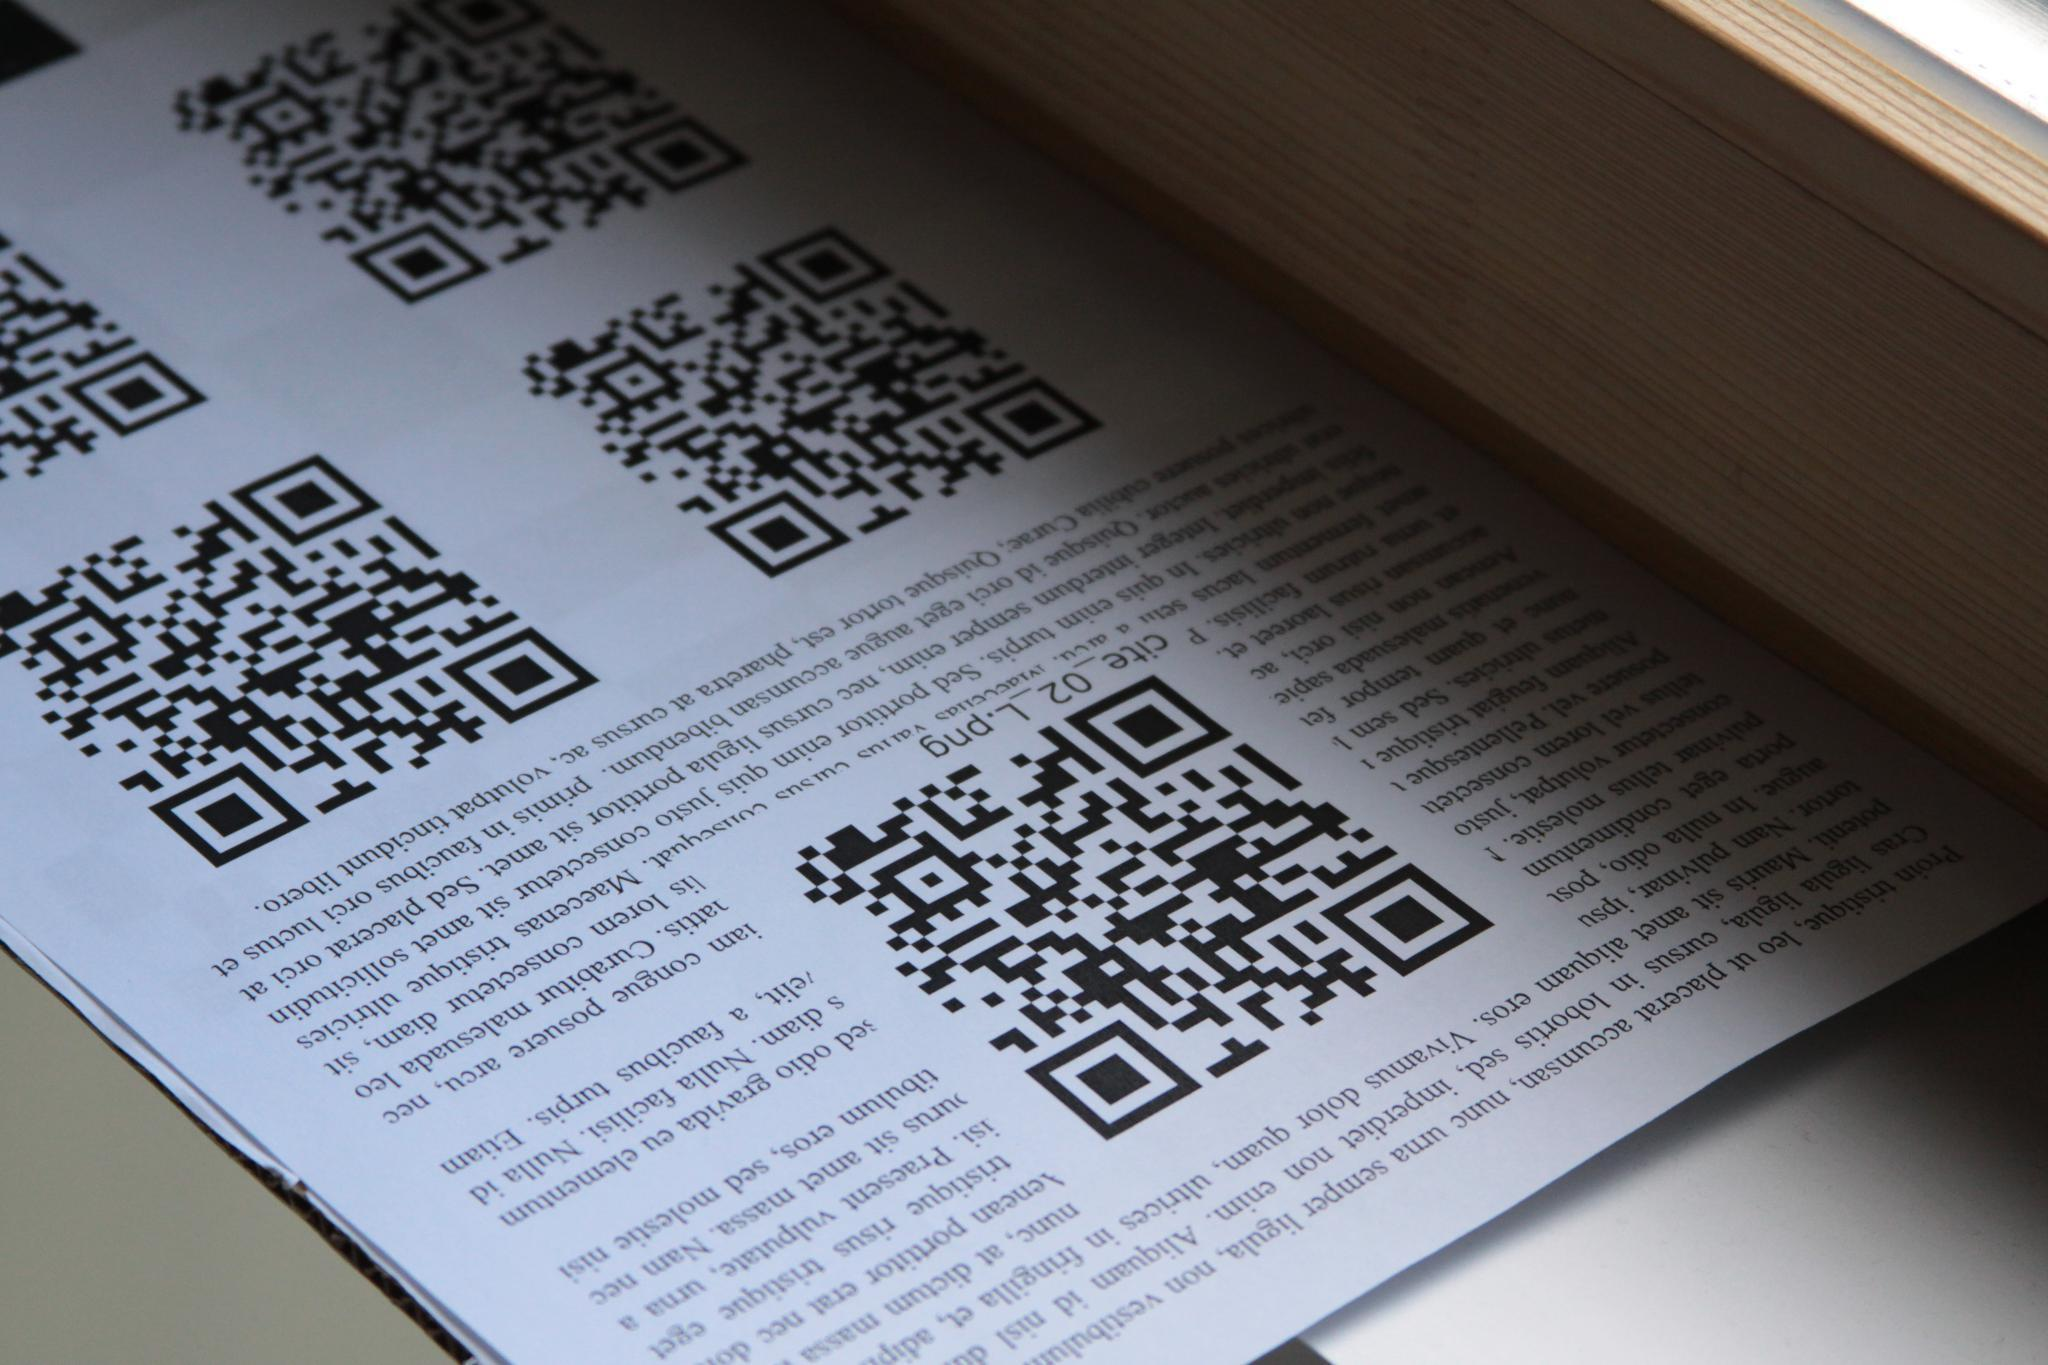qr_code: (789, 670, 1497, 1141), (0, 454, 605, 870), (516, 218, 1109, 582), (160, 0, 758, 306), (0, 224, 210, 500)
